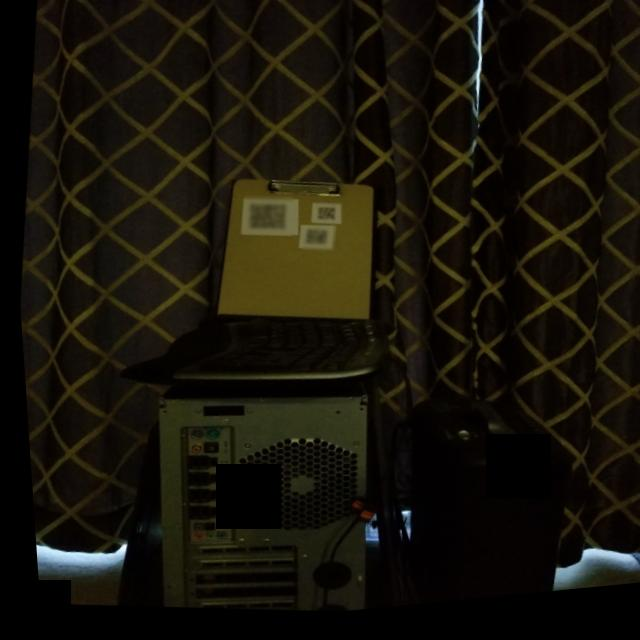QR_CODE: (236, 196, 292, 244), (297, 229, 333, 264), (308, 206, 342, 232)
